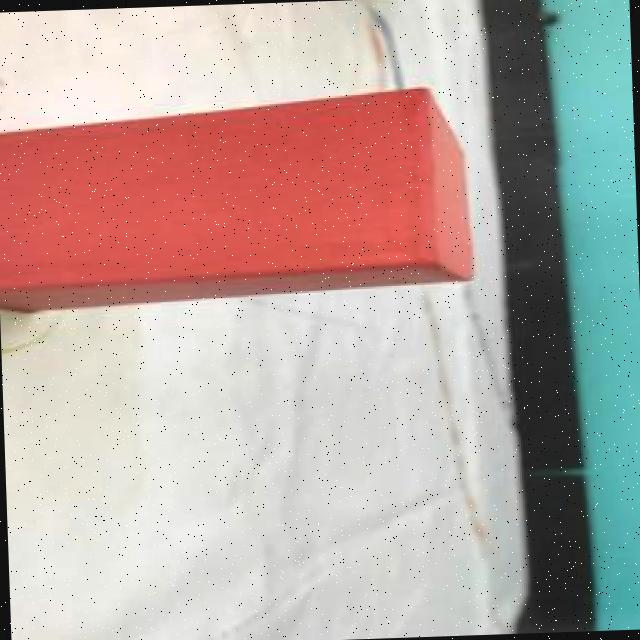redbox: (0, 85, 478, 312)
